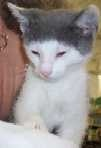Cat: (7, 2, 98, 138)
